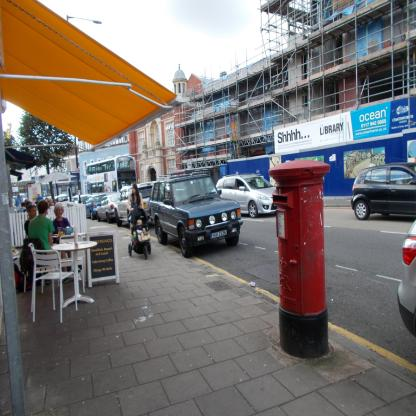Car: (150, 177, 243, 258), (353, 166, 416, 221), (214, 176, 277, 221), (398, 213, 416, 340), (116, 183, 154, 223), (98, 195, 122, 223), (88, 196, 105, 221)
